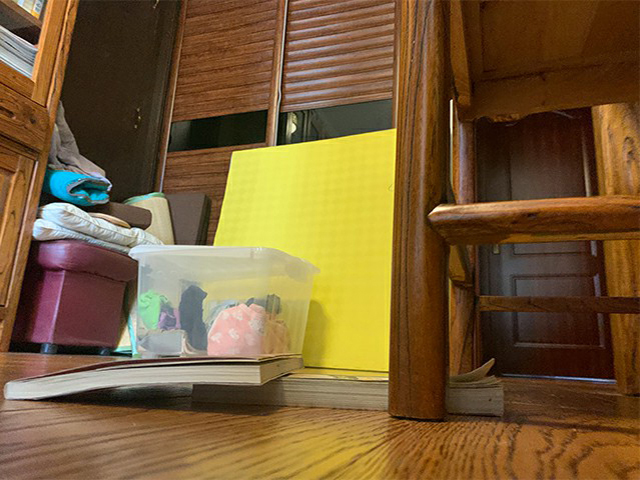book: (2, 349, 506, 416)
stool: (388, 1, 640, 420)
